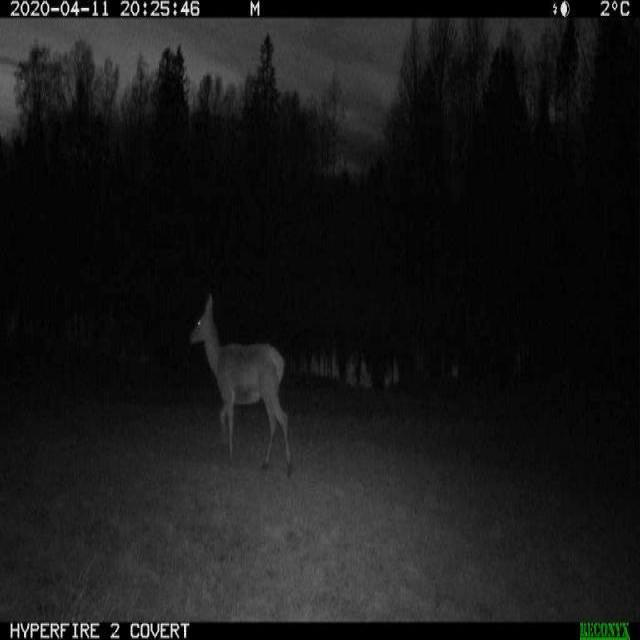deer: (182, 283, 298, 482)
